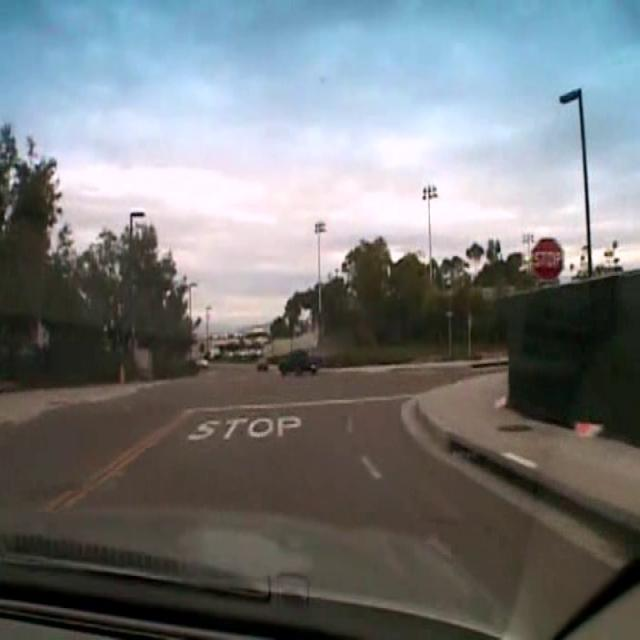stop: (531, 236, 564, 283)
